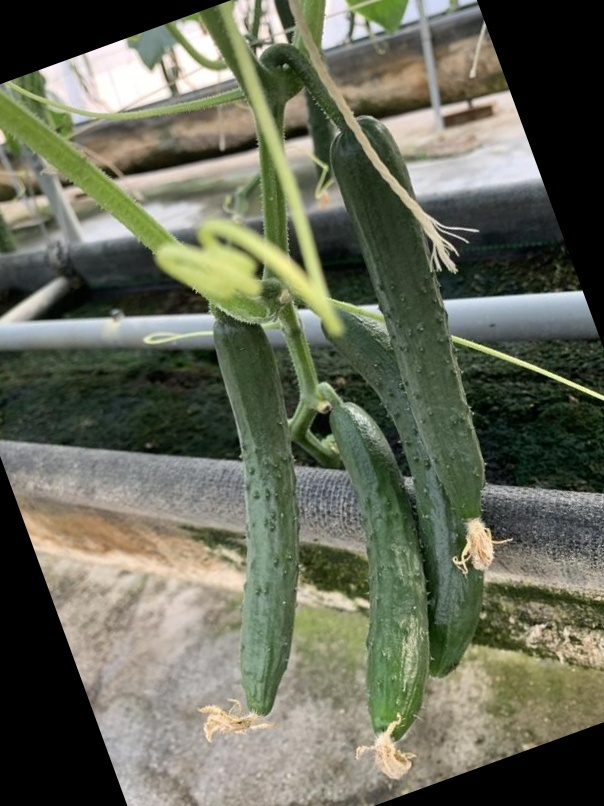mature: (329, 119, 493, 512), (213, 312, 303, 733), (325, 397, 433, 743)
